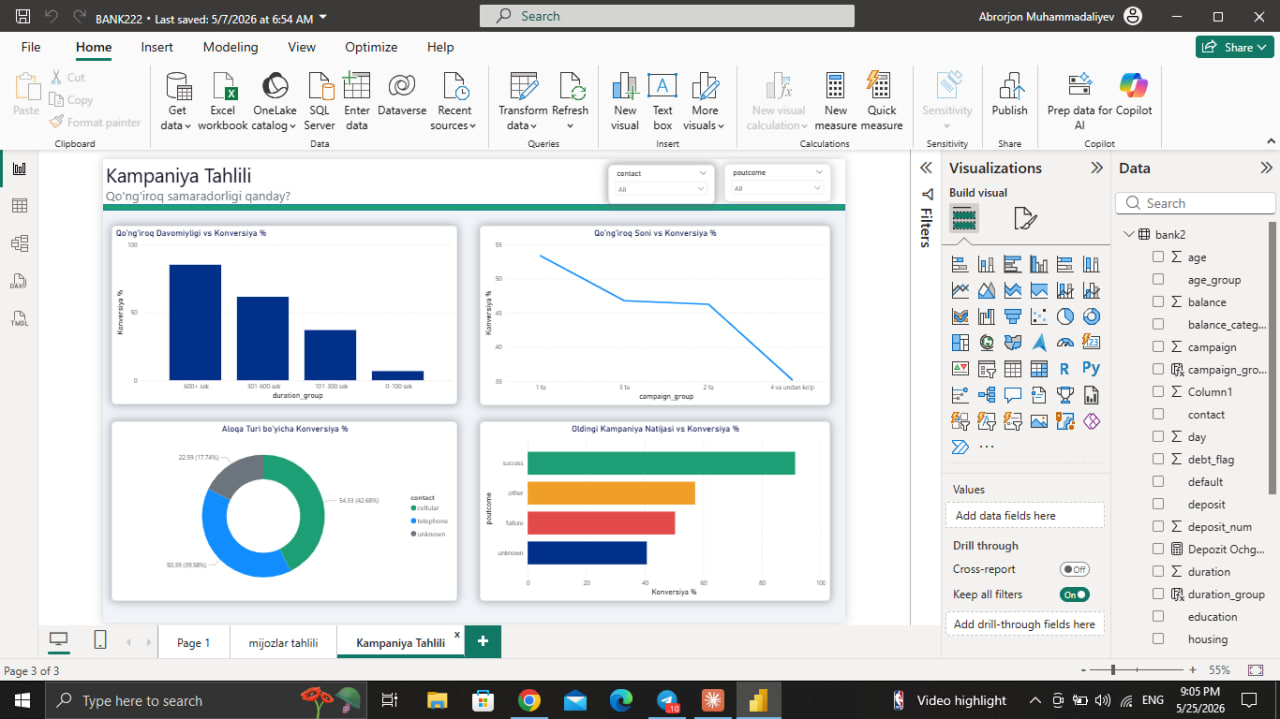

The dashboard page shown, as its layout file describes it:
{"tool":"powerbi","page":{"name":"Kampaniya Tahlili","canvas":[1440,900],"ordinal":2},"visuals":[{"type":"textbox","box":[0,0,1440,95.4],"z":0},{"type":"shape","box":[0,86.4,1440,12.6],"z":1},{"type":"columnChart","title":"Qo''ng''iroq Davomiyligi vs Konversiya %","fields":{"Category":["bank2.duration_group"],"Y":["bank2.Konversiya %"]},"box":[15.9,129.3,671.5,347.2],"z":2},{"type":"clusteredBarChart","title":"Oldingi Kampaniya Natijasi vs Konversiya %","fields":{"Y":["bank2.Konversiya %"],"Category":["bank2.poutcome"]},"box":[731.7,508.5,680.3,349],"z":3},{"type":"lineChart","title":"Qo''ng''iroq Soni vs Konversiya %","fields":{"Category":["bank2.campaign_group"],"Y":["bank2.Konversiya %"]},"box":[731.7,129.3,680.3,349],"z":4},{"type":"donutChart","title":"Aloqa Turi bo''yicha Konversiya %","fields":{"Category":["bank2.contact"],"Y":["bank2.Konversiya %"]},"box":[15.9,508.5,671.5,349],"z":5},{"type":"slicer","fields":{"Values":["bank2.education"]},"box":[979.7,8.9,207.3,76.2],"z":6},{"type":"slicer","fields":{"Values":["bank2.contact"]},"box":[979.2,10.8,207,75.6],"z":7},{"type":"slicer","fields":{"Values":["bank2.poutcome"]},"box":[1204.7,8.9,207.3,74.4],"z":8}]}

Visuals, with their boxes on the page's 1440x900 design canvas (x1, y1, x2, y2). These are canvas units, not pixel positions in the 1280x719 screenshot, which may show the page scaled, cropped or inside an application window:
textbox: bbox=[0, 0, 1440, 95]
shape: bbox=[0, 86, 1440, 99]
"Qo''ng''iroq Davomiyligi vs Konversiya %" columnChart: bbox=[16, 129, 687, 476]
"Oldingi Kampaniya Natijasi vs Konversiya %" clusteredBarChart: bbox=[732, 508, 1412, 858]
"Qo''ng''iroq Soni vs Konversiya %" lineChart: bbox=[732, 129, 1412, 478]
"Aloqa Turi bo''yicha Konversiya %" donutChart: bbox=[16, 508, 687, 858]
slicer - bank2.education: bbox=[980, 9, 1187, 85]
slicer - bank2.contact: bbox=[979, 11, 1186, 86]
slicer - bank2.poutcome: bbox=[1205, 9, 1412, 83]
